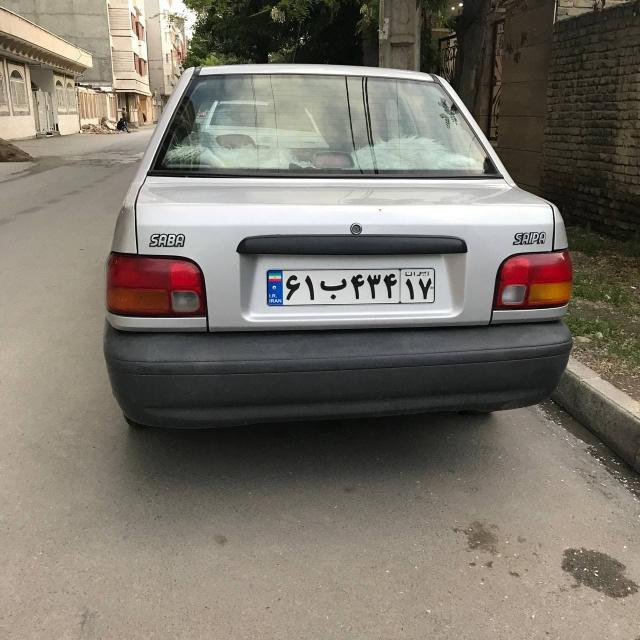Plates: (266, 268, 435, 305)
